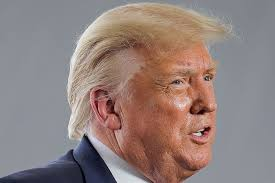No-Glasses: (153, 62, 220, 97)
